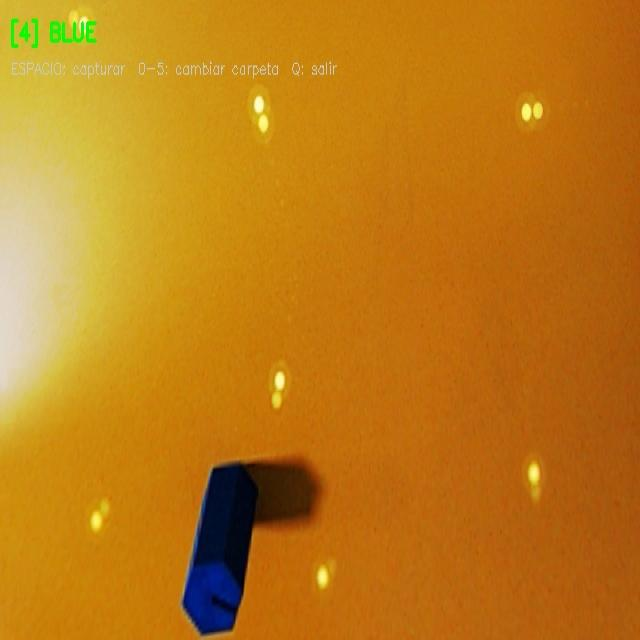blue: (182, 463, 257, 633)
